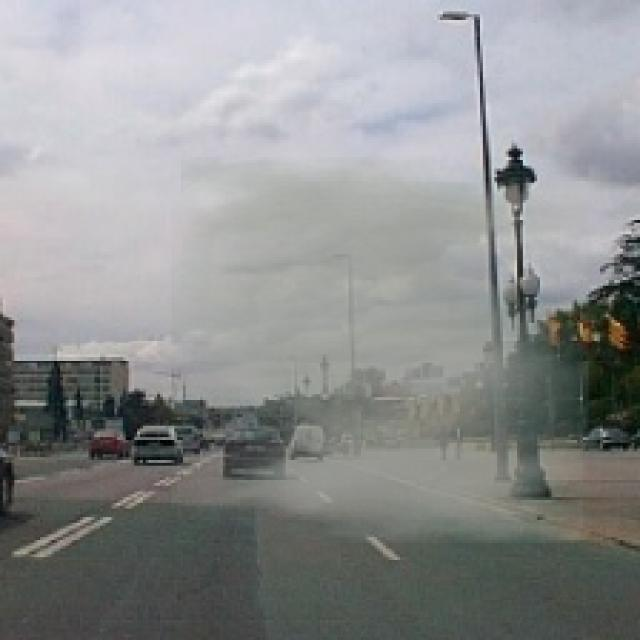smoke: (172, 154, 588, 543)
